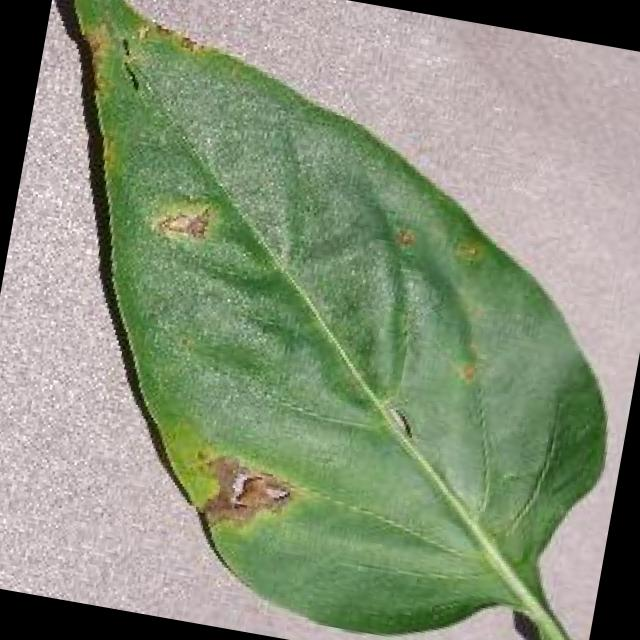Chilli_Bacterial_Spot: (0, 0, 640, 640), (179, 440, 300, 547), (149, 194, 216, 250), (104, 32, 151, 95), (444, 232, 489, 272), (381, 403, 418, 443), (386, 220, 420, 256), (448, 354, 484, 388)
